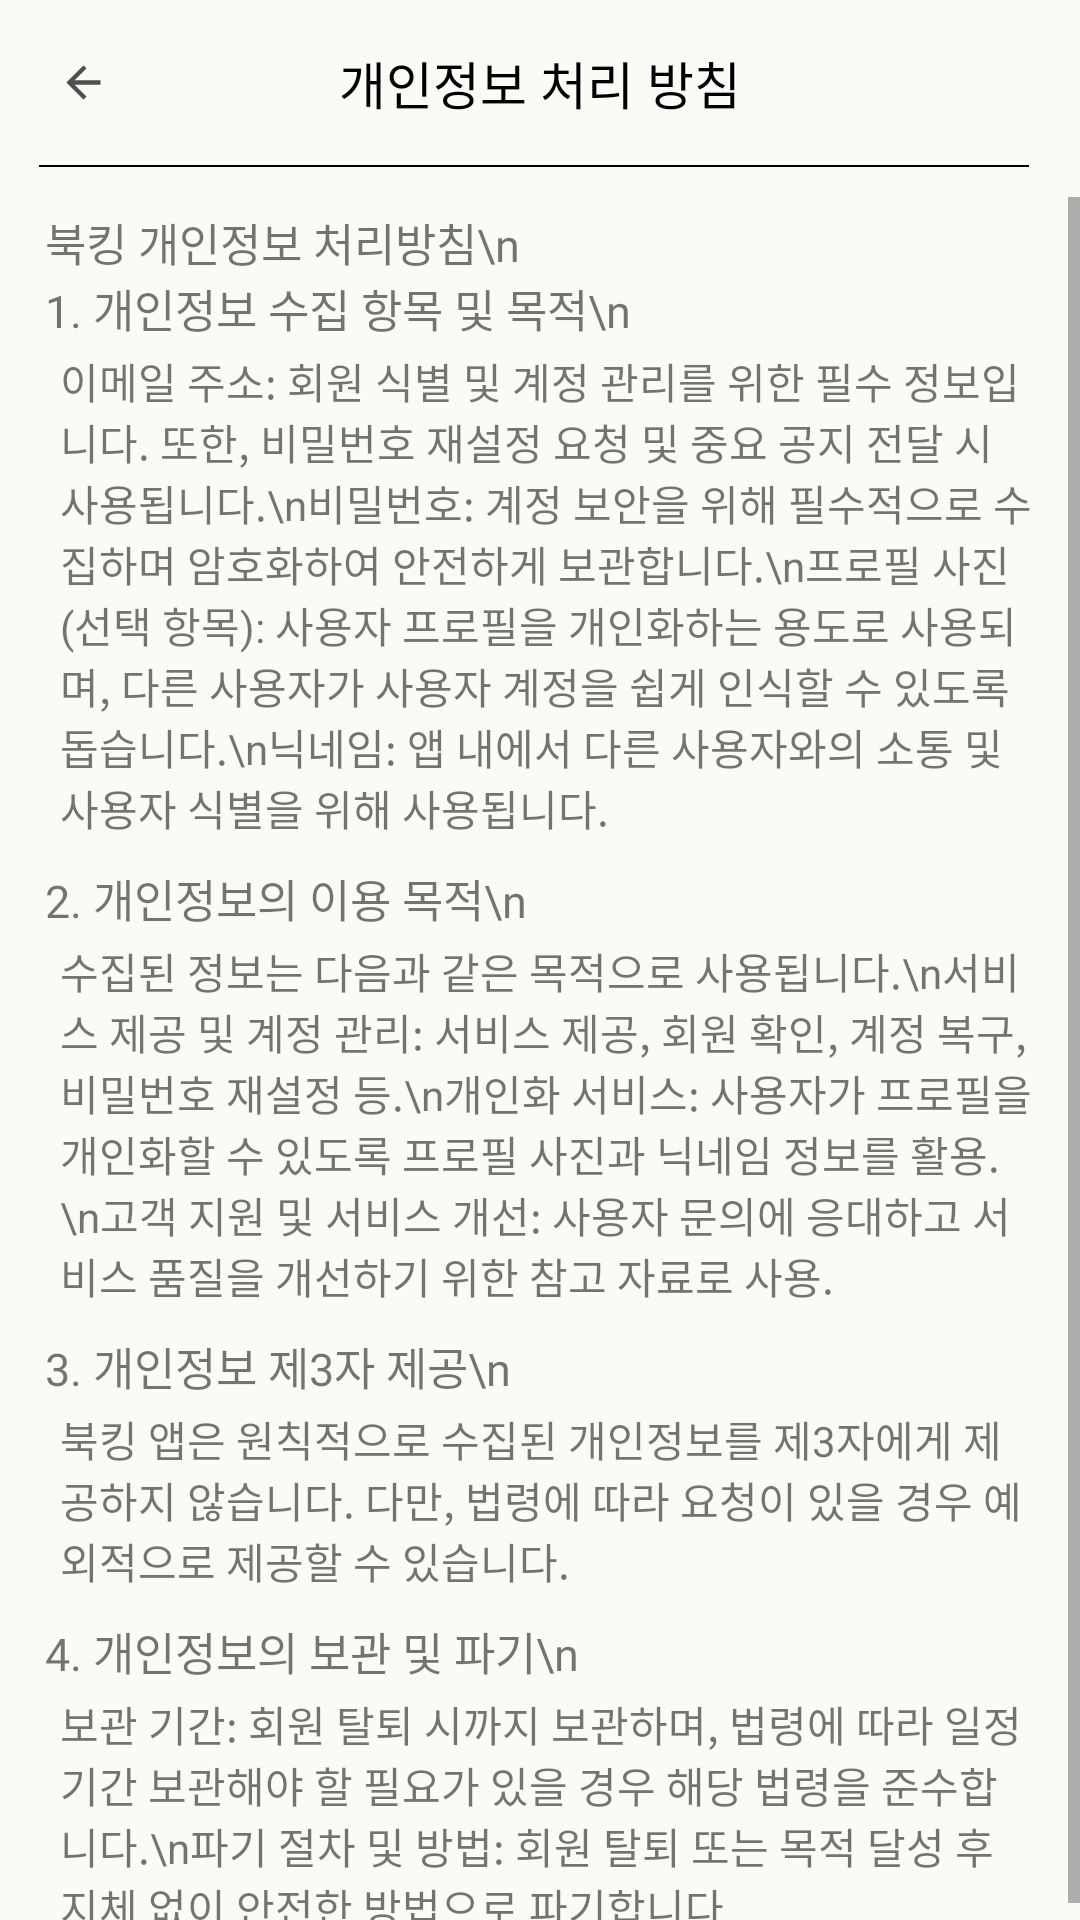

Locate icon controls on the screen. Image size 1080×1920, boxes as {"x1": x1, "y1": y1, "x2": x2, "y2": y2}.
arrow back: {"x1": 66, "y1": 65, "x2": 101, "y2": 100}
